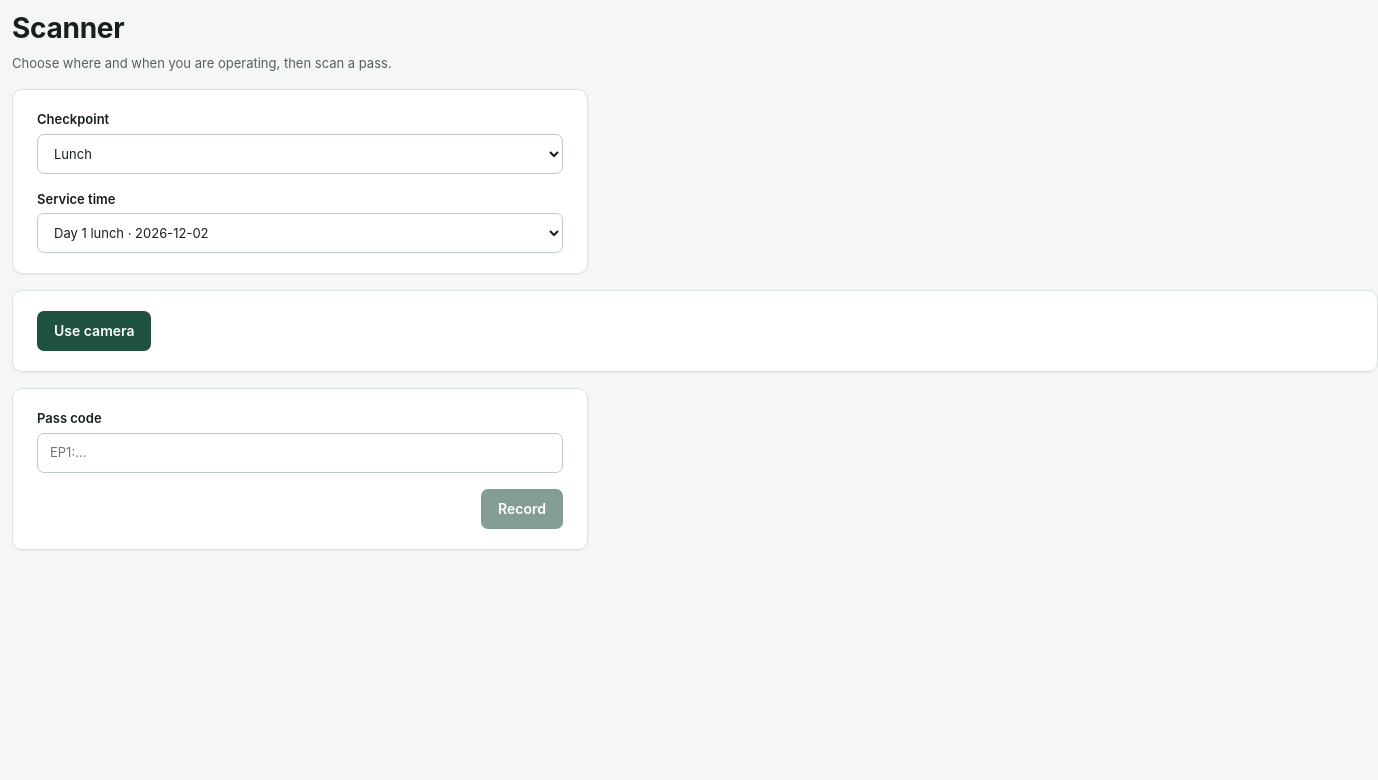
Test case: scanner › the camera reader is stopped when the page is left
The width and height of the screenshot is (1378, 780).
Select "Lunch" in the dropdown labelled "Checkpoint": coordinates (300, 154) [37,134,563,174]
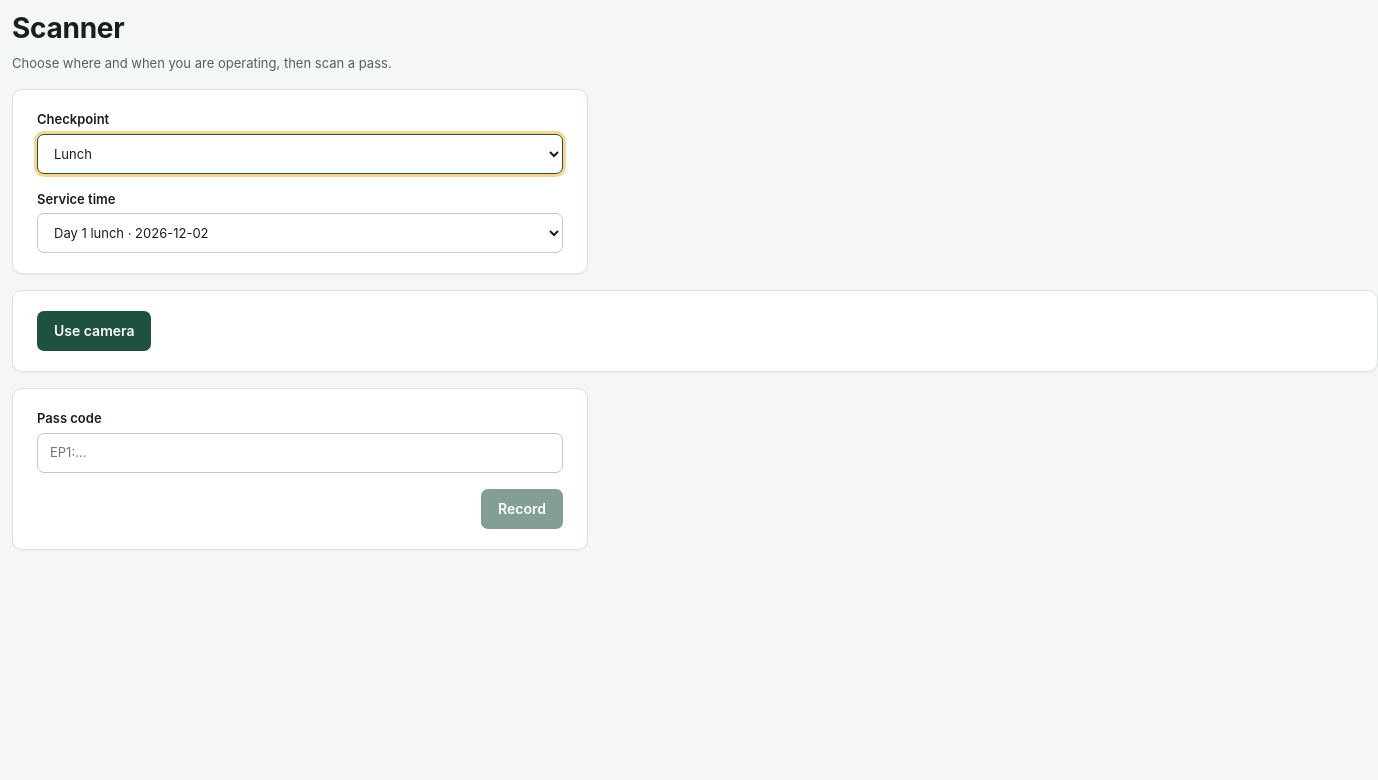
Select "Day 1 lunch · 2026-12-02" in the dropdown labelled "Service time": coordinates (300, 233) [37,213,563,253]
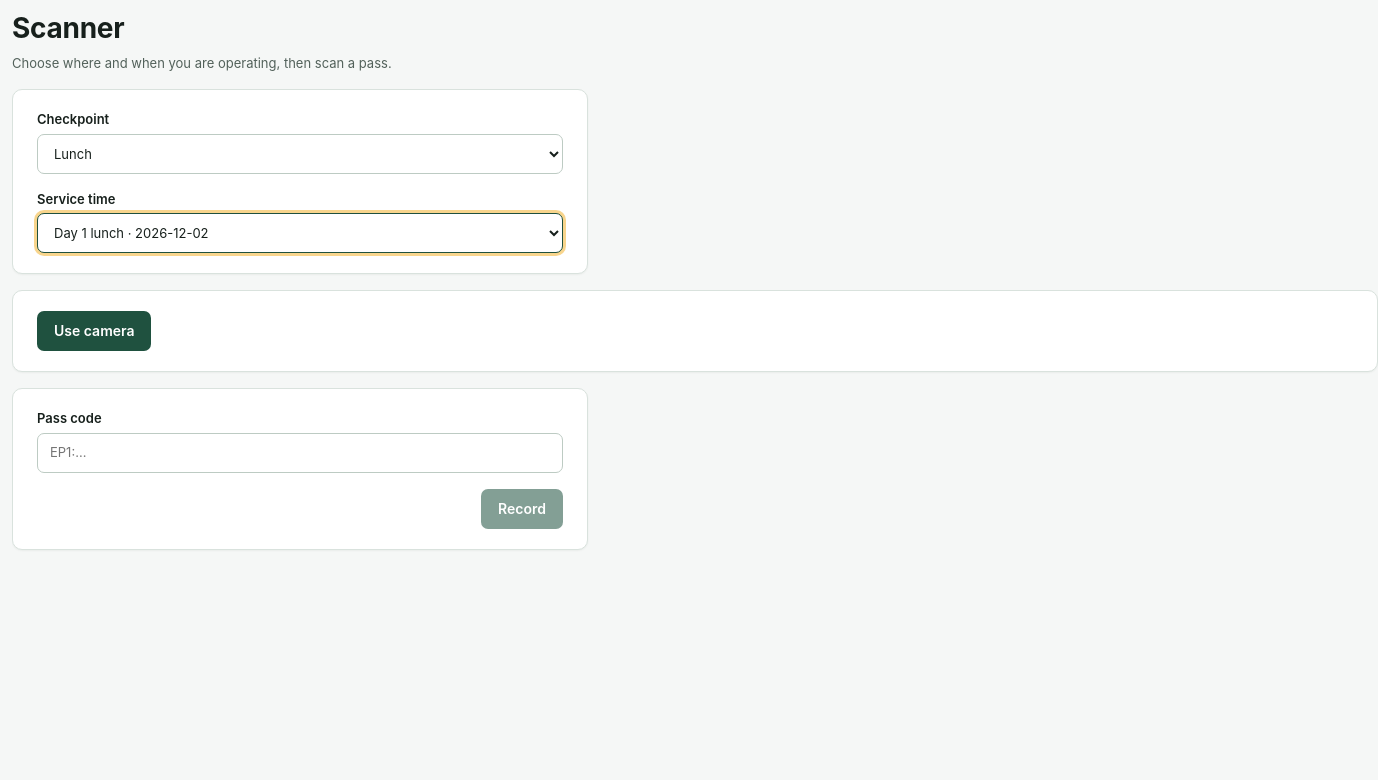
Click the button "Use camera": coordinates (94, 331) [37,311,152,351]
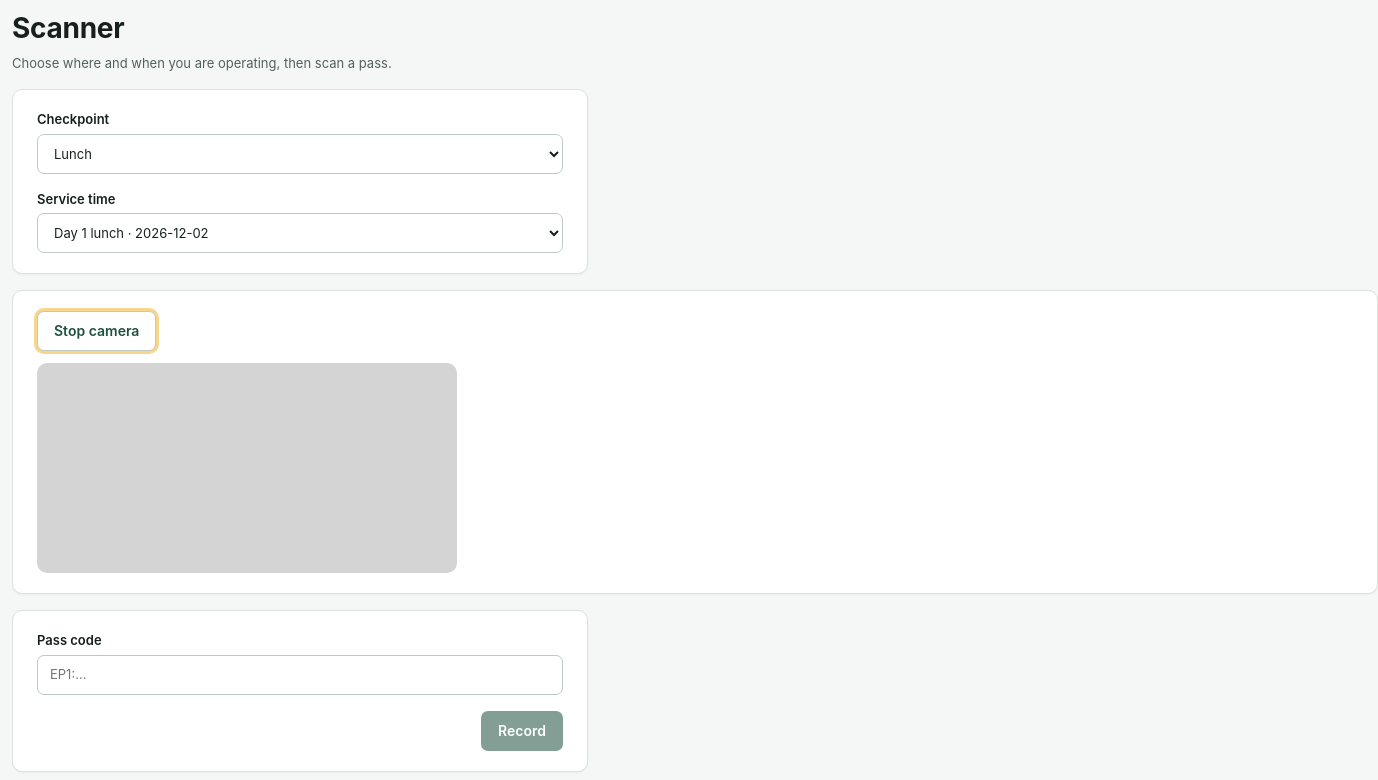
Check: the button "Stop camera" is shown, box [37,311,156,351]
